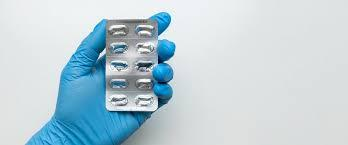Glove: (27, 20, 150, 144)
pill_Strip: (105, 19, 157, 111), (105, 33, 156, 57), (106, 75, 155, 93), (136, 42, 155, 54), (134, 60, 154, 71), (108, 24, 128, 35), (135, 24, 153, 36), (109, 59, 128, 70), (108, 94, 127, 105), (109, 42, 127, 53), (135, 95, 153, 105), (135, 79, 152, 89), (110, 79, 128, 88)
